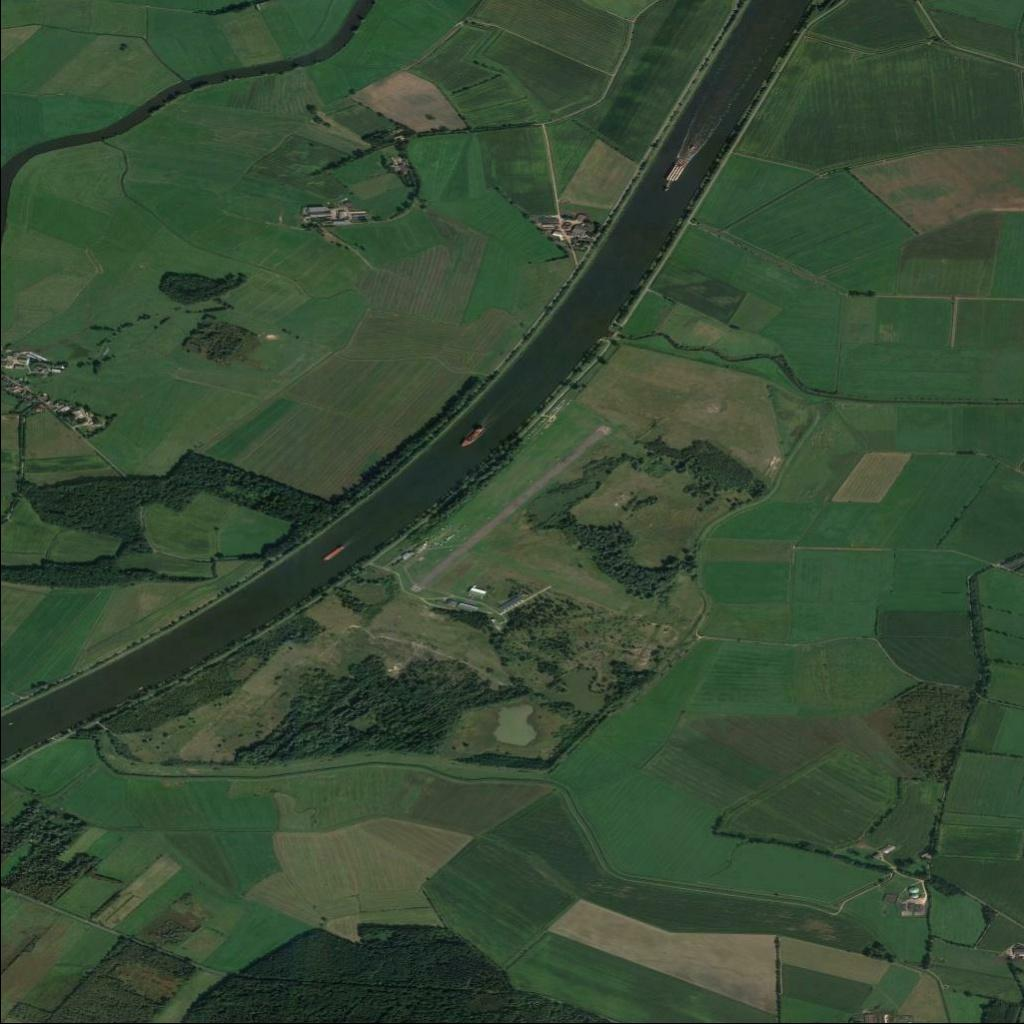ship: (458, 422, 488, 451)
